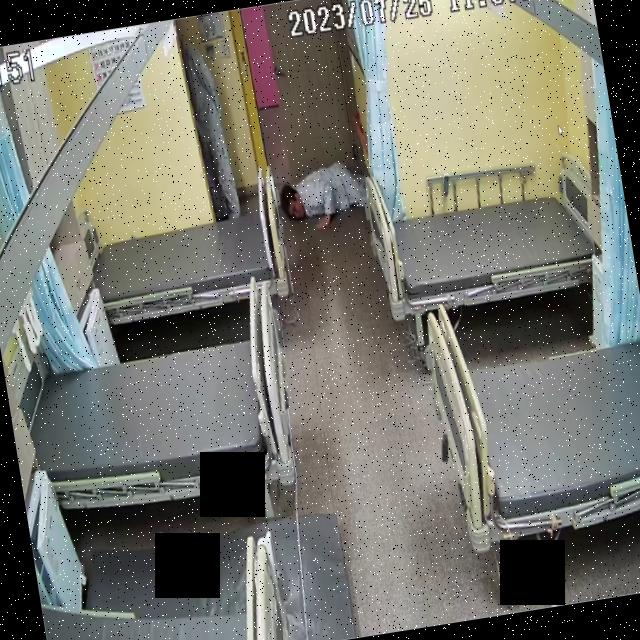bed: (419, 274, 640, 550), (18, 324, 302, 516), (364, 168, 614, 322), (88, 198, 290, 324)
fall: (284, 158, 378, 236)
patient: (180, 30, 243, 222), (278, 154, 378, 236)
